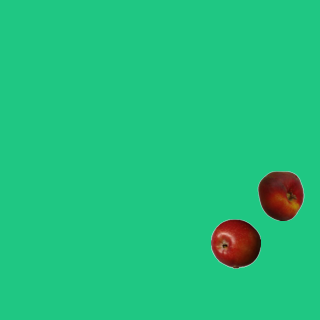Apple Braeburn: (210, 218, 260, 268)
Nectarine Flat: (255, 170, 305, 220)
